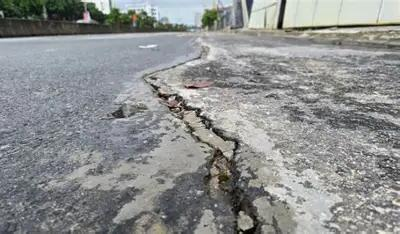ROAD_CRACK: (62, 73, 350, 199)
